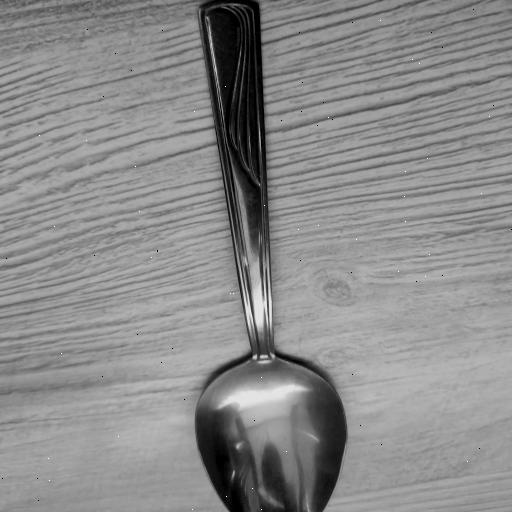spoon: (196, 1, 360, 512)
